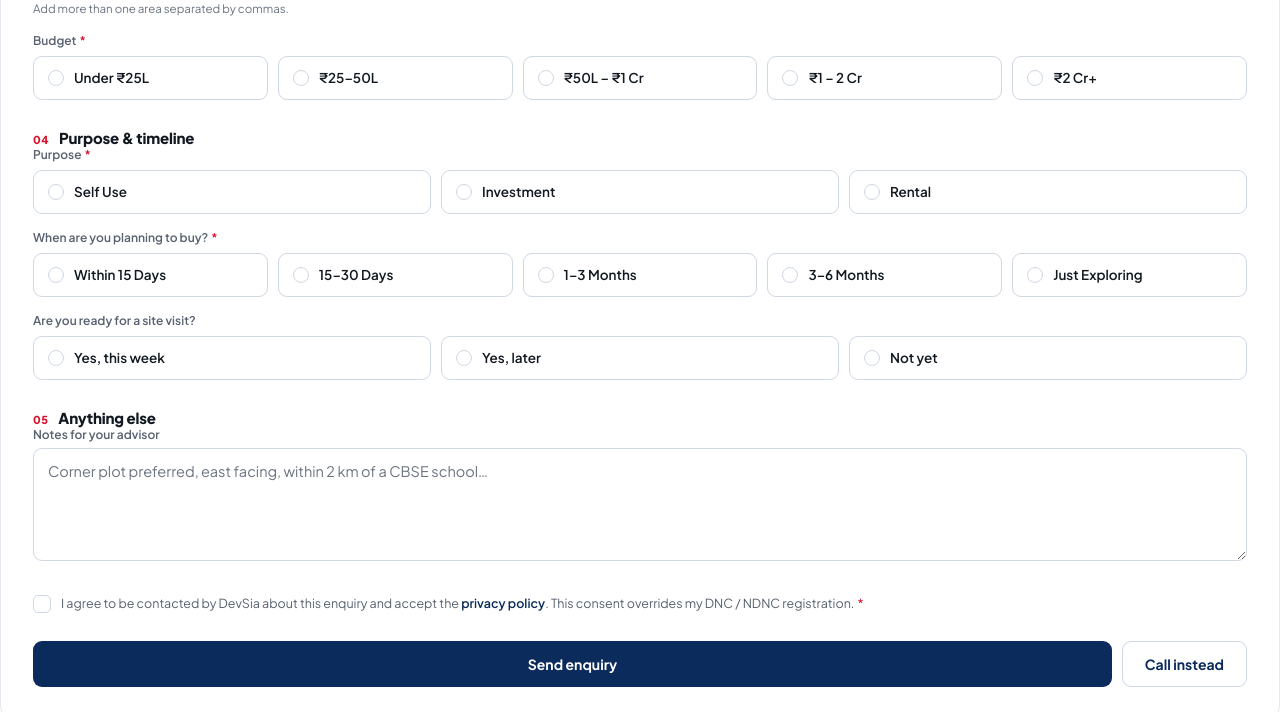
Test case: EnquiryForm › shows required-field errors and does not send an empty form
This screenshot has width=1280, height=712.
(page scrolled)
Step 1. Click the button "Send enquiry" → (572, 664), box [33, 641, 1112, 687]
(page scrolled)
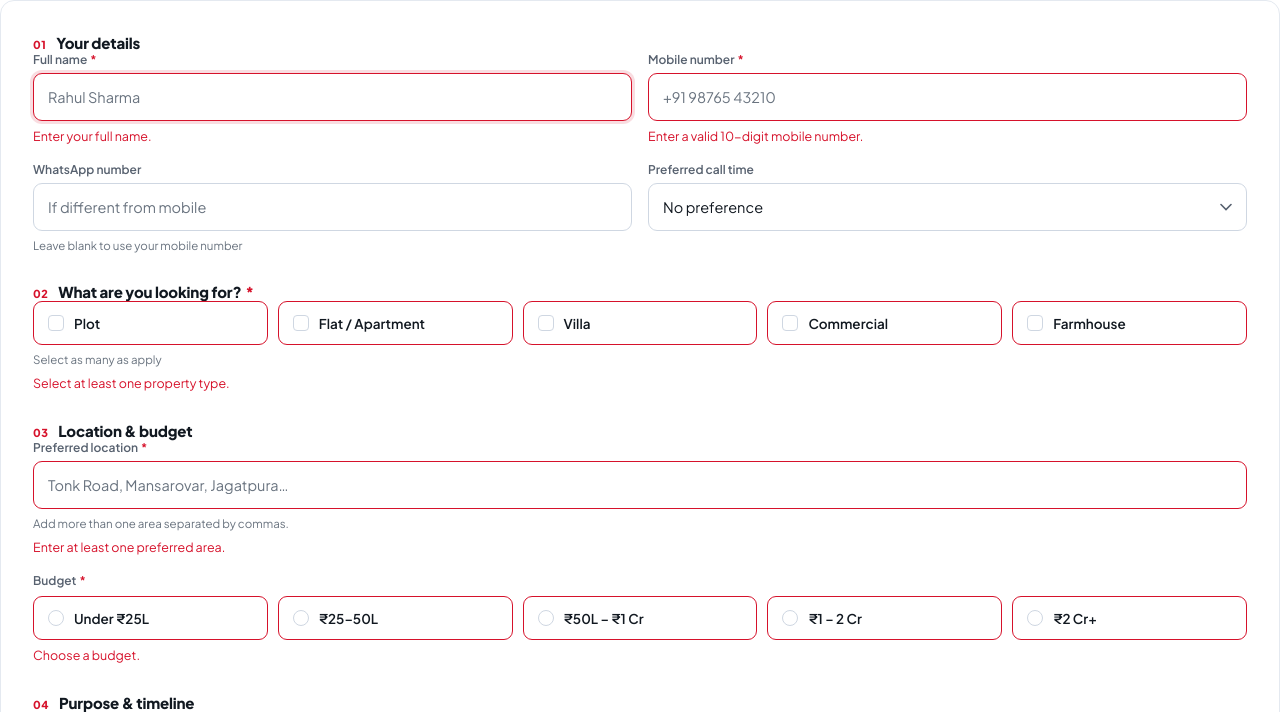
Expected: the message "Enter your full name." is shown, [33, 128, 152, 144]
